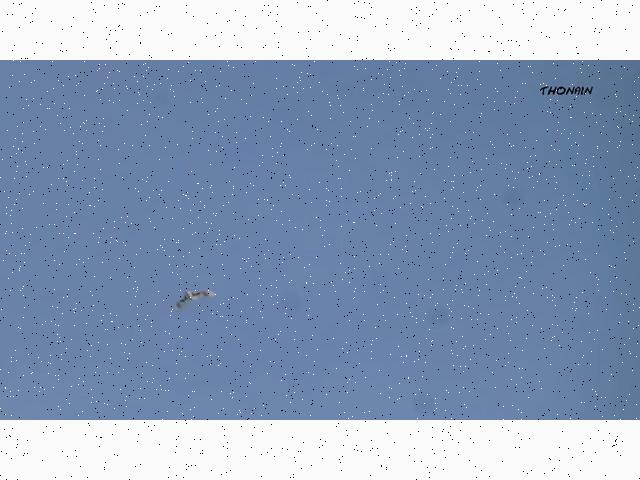Anti-Drone: (176, 290, 216, 308)
